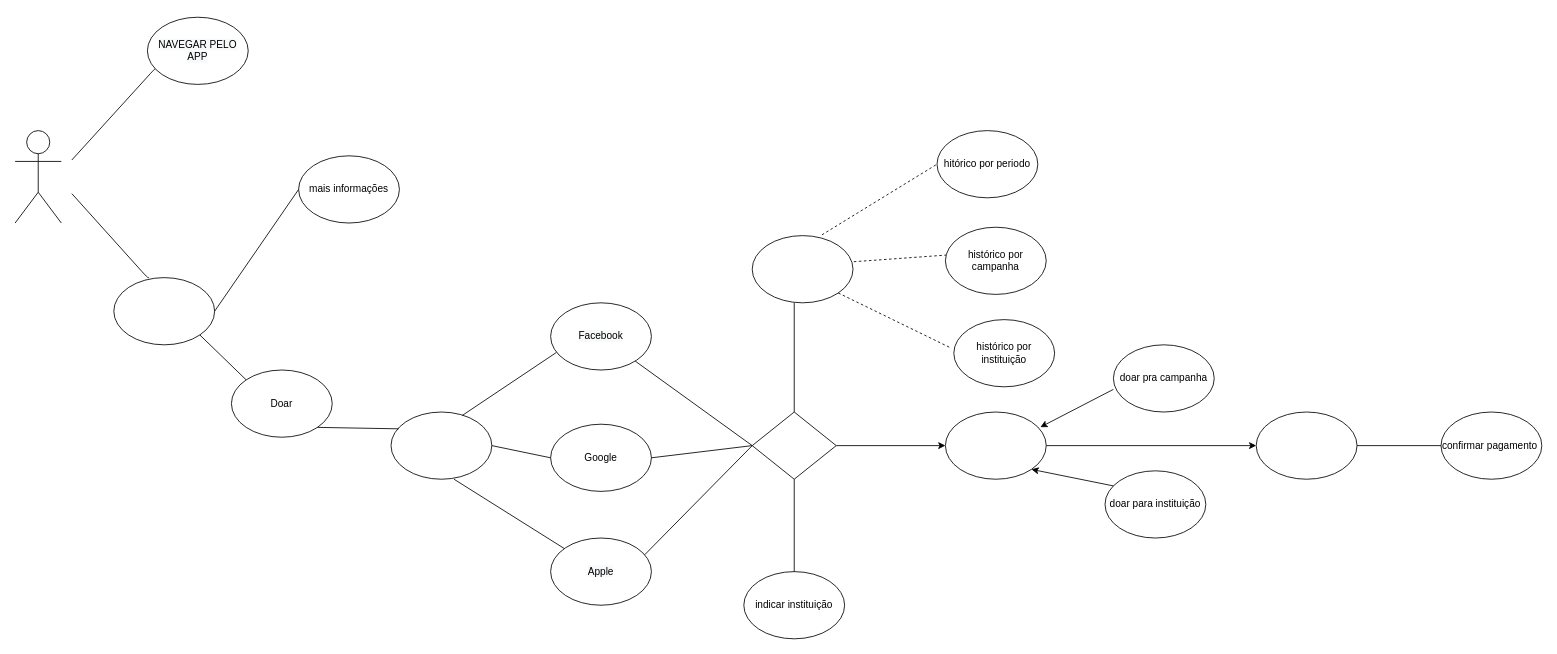
This 1557x654 diagram has some shape labels left out. The shapes that lost their labels are listed below. From the top down, each one's box as (x1, y1, x2, y2) in pixels, then its label:
(14, 130, 61, 223): Doador Geral
(751, 235, 853, 303): hitório de doações
(113, 277, 215, 345): CONHECER INSTITUIÇÕES
(390, 411, 492, 479): FAZER LOGIN
(945, 411, 1046, 479): escolher doação
(1255, 411, 1357, 479): confirmar doação final
